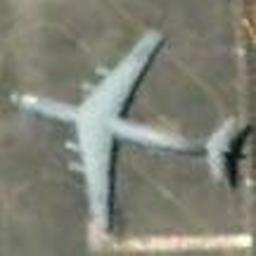Airplane: (6, 20, 238, 238)
